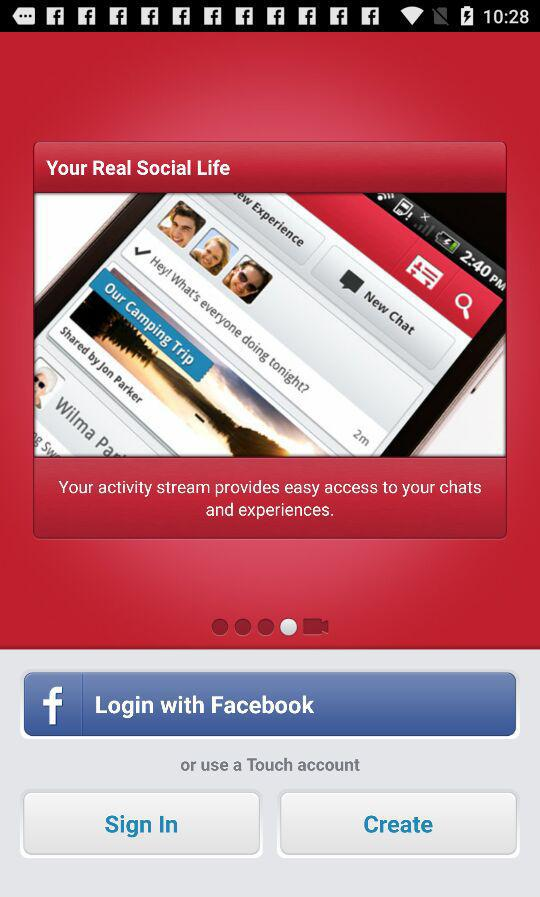Image: (34, 193, 506, 458)
PageIndicator: (212, 617, 330, 637)
Text: (59, 480, 482, 520), (46, 160, 231, 177), (181, 757, 361, 772)
TextButton: (24, 672, 517, 737), (280, 792, 517, 856), (24, 792, 261, 856)
UpperTaskBar: (1, 1, 540, 33)
